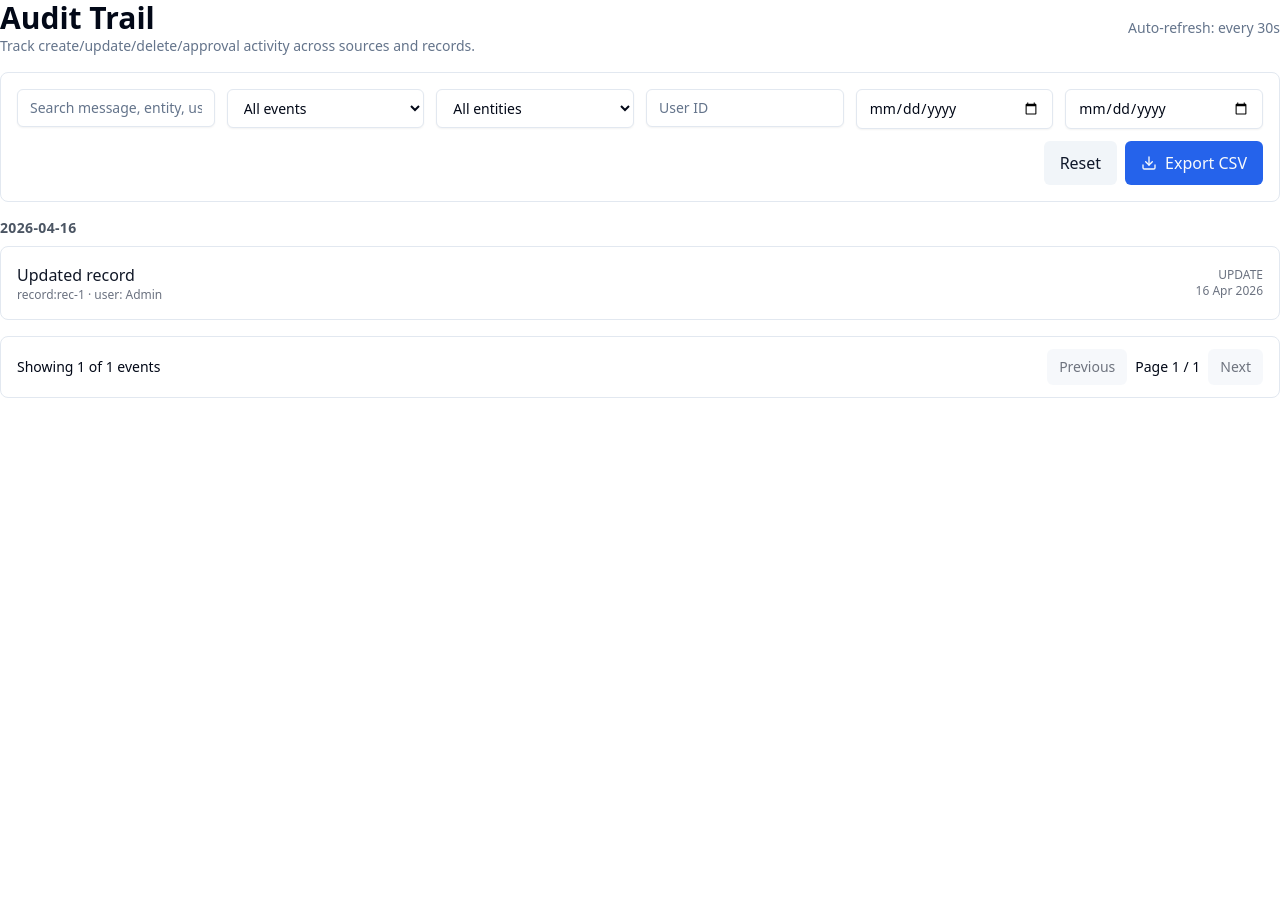
Scenario: AuditTrail › shows event details on click
The width and height of the screenshot is (1280, 900).
Step 1. Click the text "Updated record" → x=76, y=275, box [17,264,135,286]
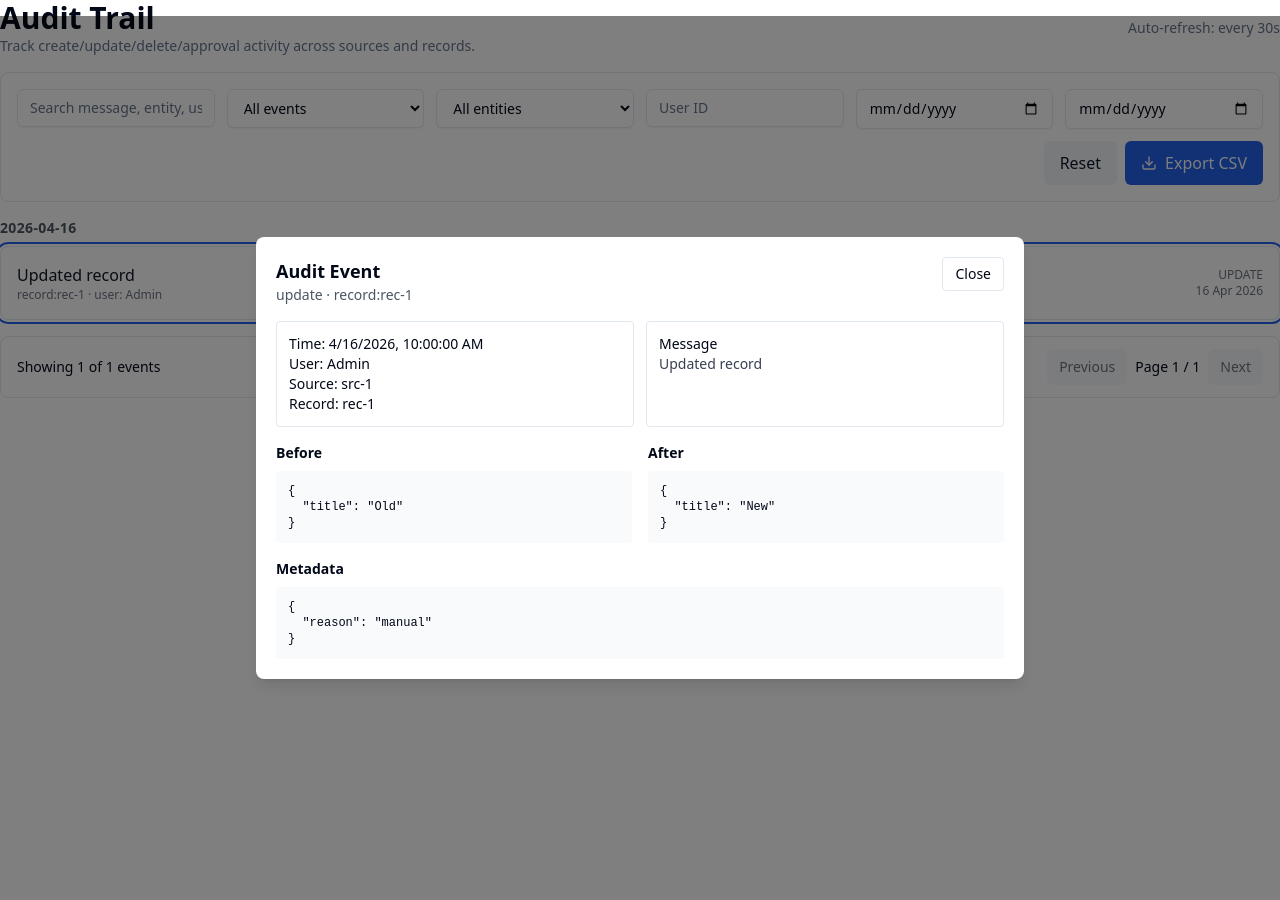
expect the dialog is shown: met
expect the heading "Before" is shown: met, box [276,443,322,462]
expect the heading "After" is shown: met, box [648,443,684,462]
